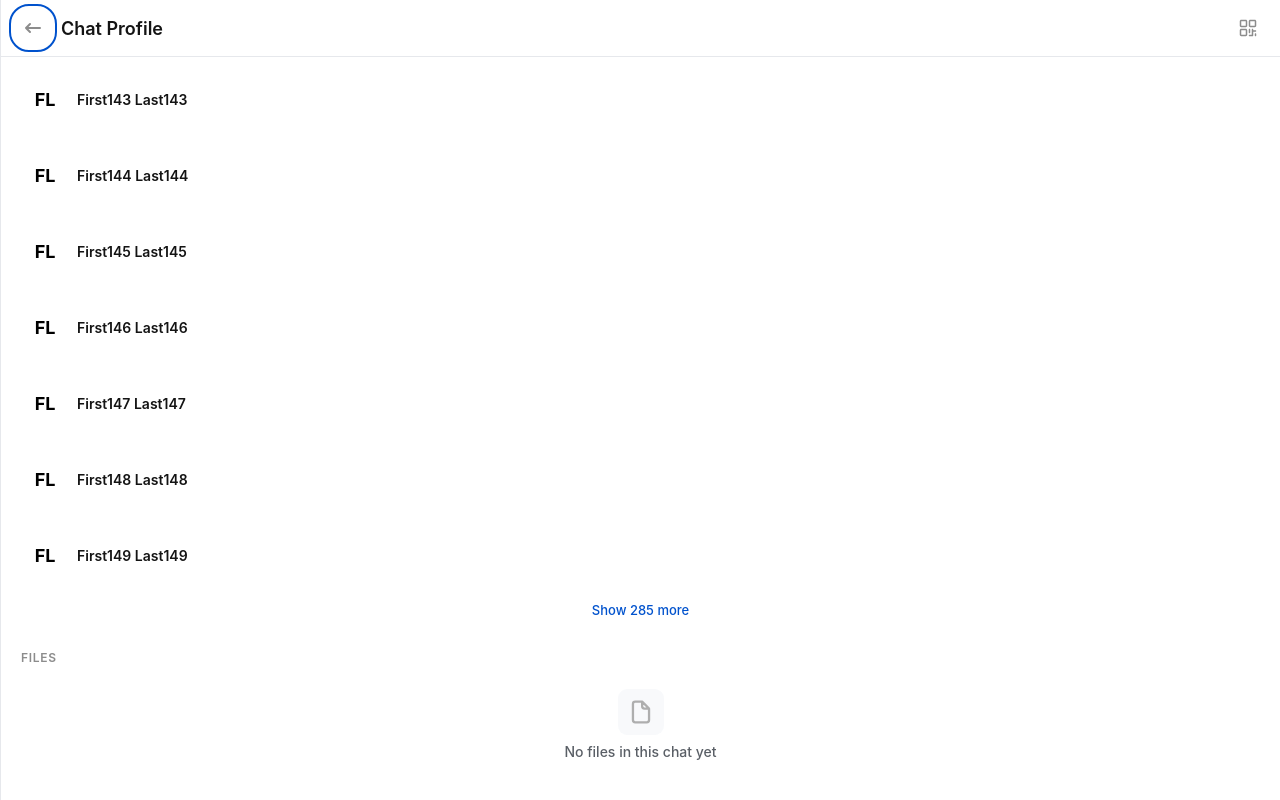
Test: ChatProfileModal on a truncated big room › lists directory members after the known ones, deduplicated, windowed
(page scrolled)
Check: the text "First149 Last149" is shown, box [77,547,188,564]
Check: the text "First150 Last150" is not shown
Click the button "Show 285 more".
click(640, 610)  # box [592,594,689,626]
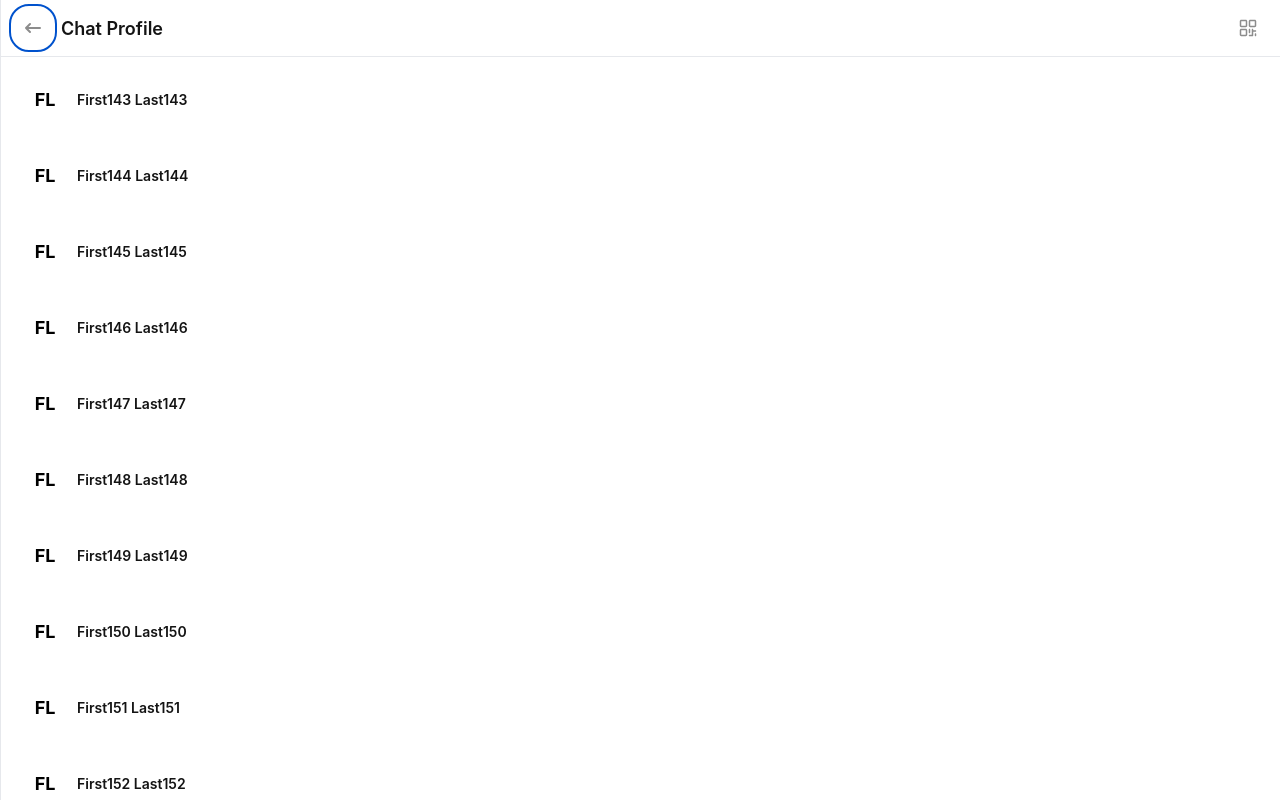
Check: the text "First150 Last150" is shown, box [77,623,187,640]
